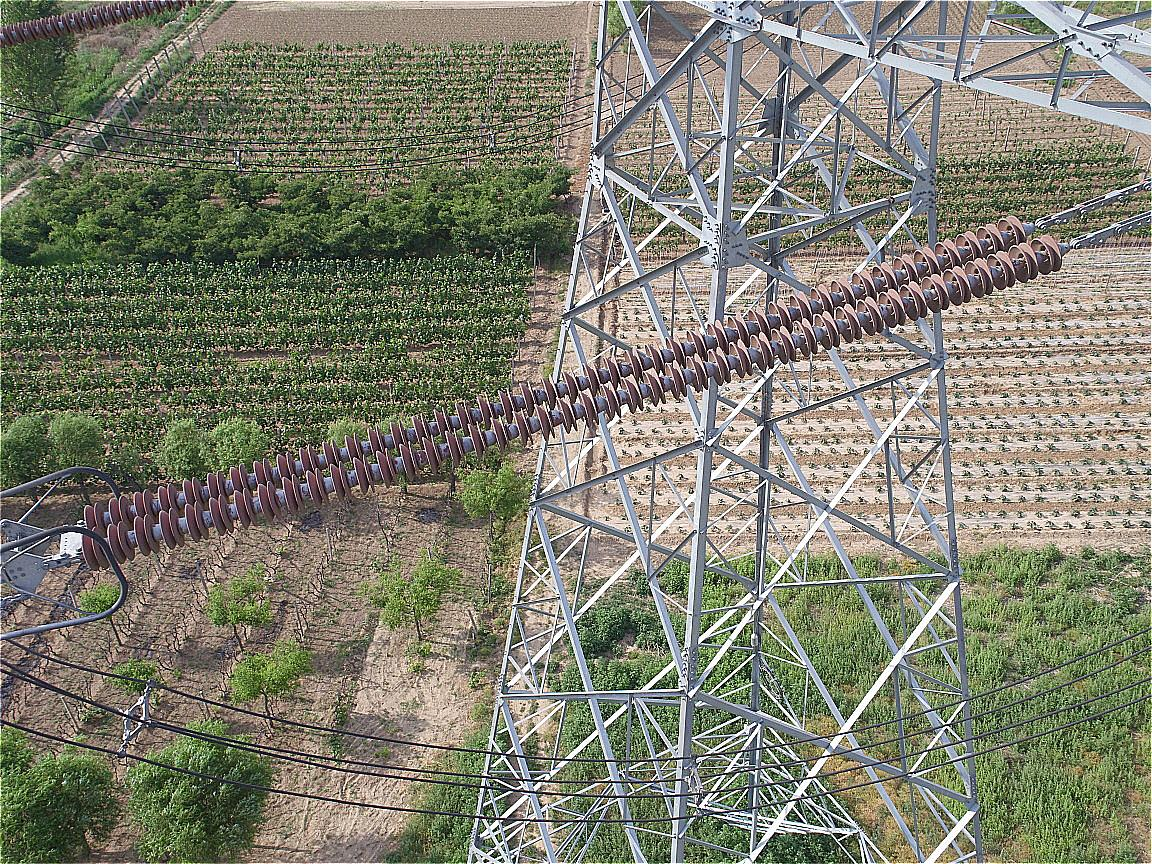insultor2: (81, 214, 1063, 571)
